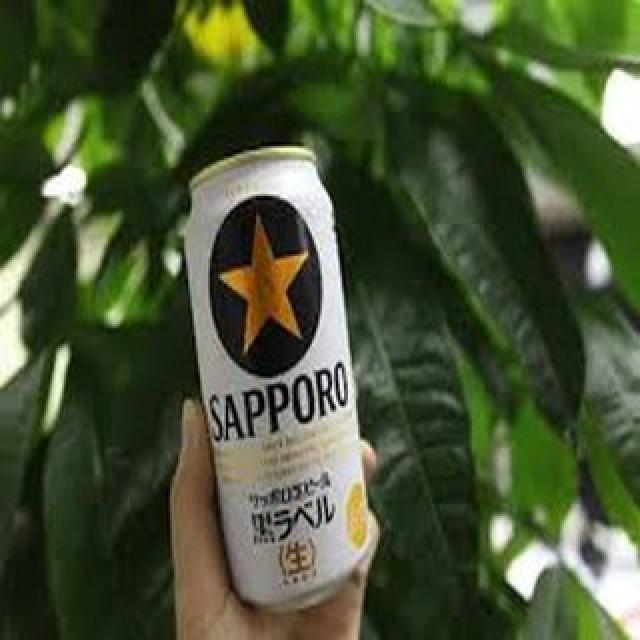can: (177, 141, 388, 618)
